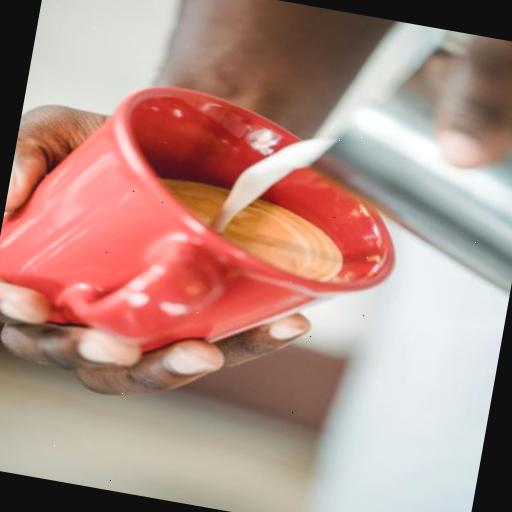cup: (0, 60, 417, 393)
